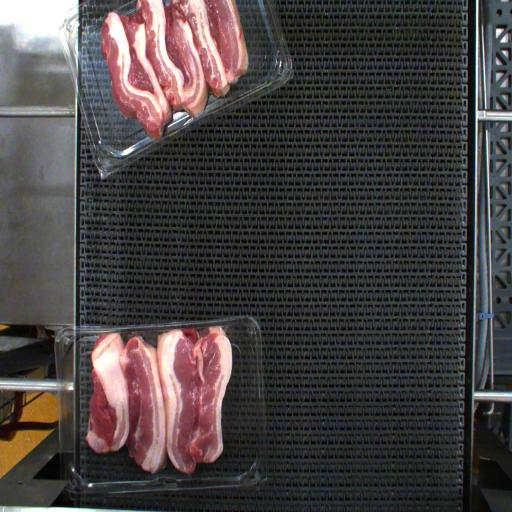packaging-error: (129, 330, 152, 340), (221, 321, 229, 337)
